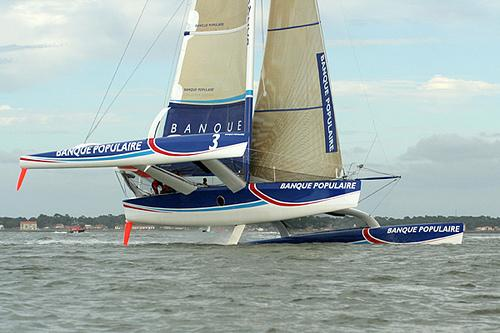Ship: (19, 2, 466, 253)
